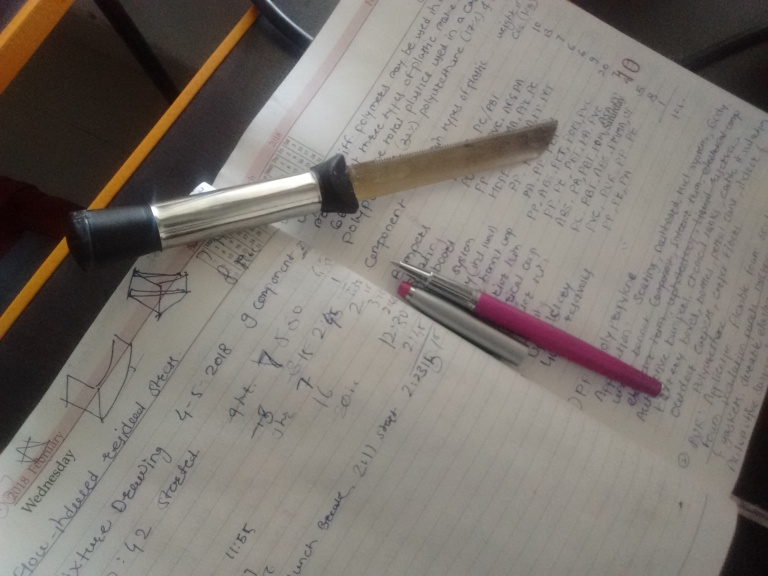knife: (60, 115, 562, 268)
